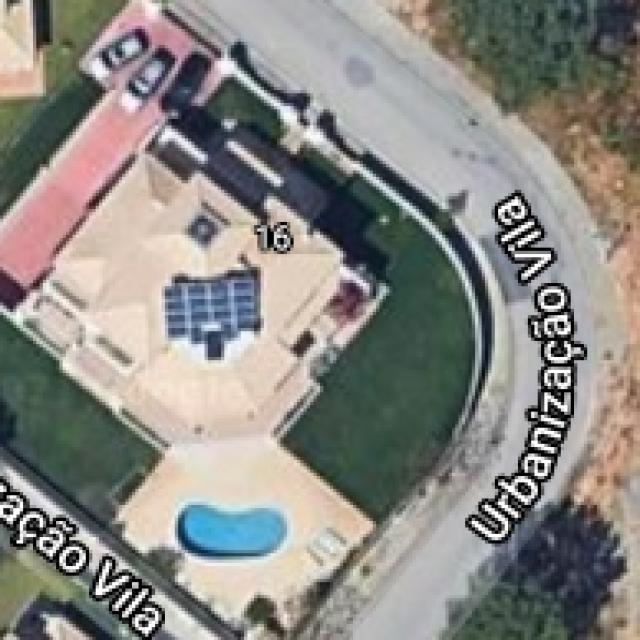pool: (168, 495, 287, 560)
